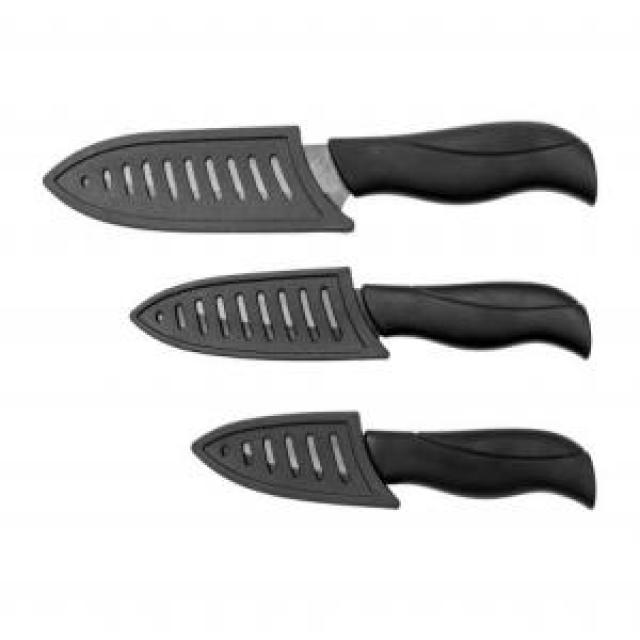knife: (39, 119, 598, 240), (126, 264, 594, 376), (186, 406, 600, 518)
